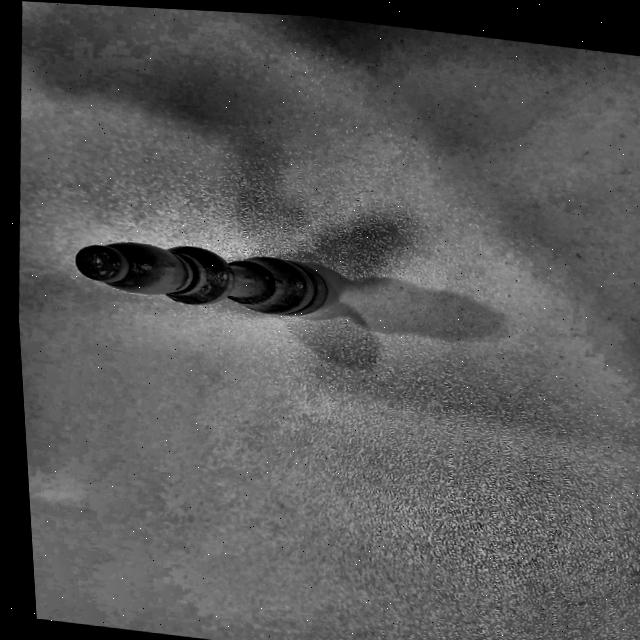black-bishop: (65, 227, 346, 334)
